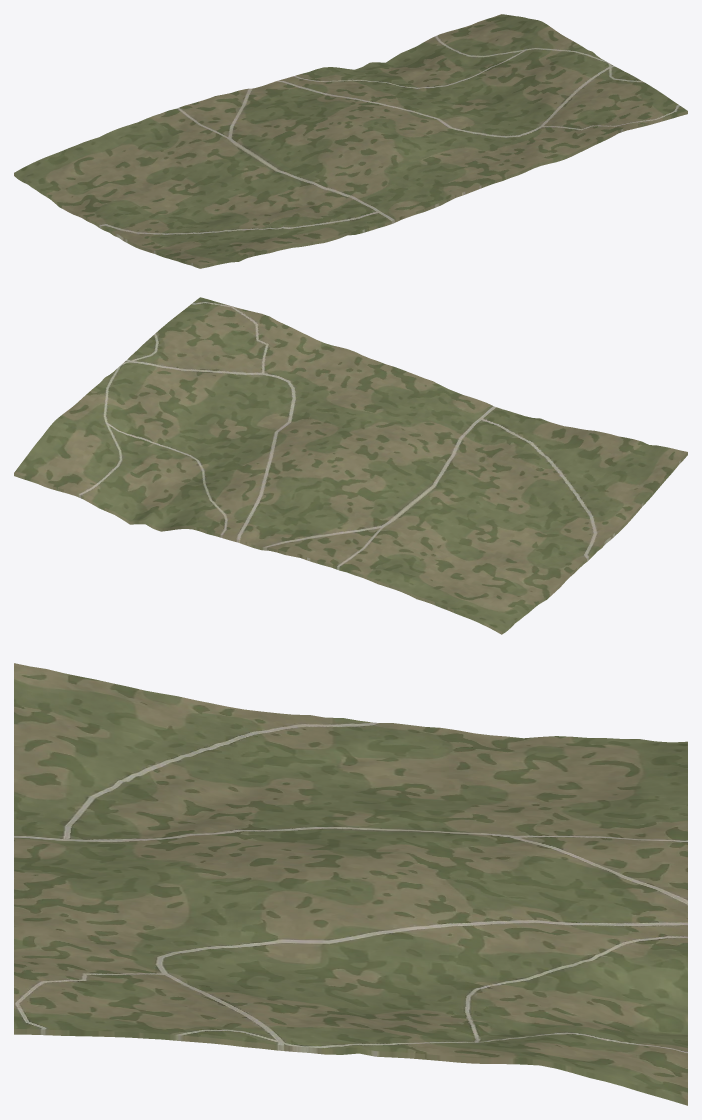
3 views of the same model, one above another, from view 1: azimuth 30°, elevation 25°; view 2: azimuth 150°, elevation 25°; view 3: azimuth 270°, elevation 25° (orthographic). The views are drawn at different scales.
Visible parts, largest first — view 1: terrain; view 2: terrain; view 3: terrain.
Part boxes in pixels (x1=…): terrain: x1=14, y1=14, x2=687, y2=268; terrain: x1=14, y1=297, x2=687, y2=634; terrain: x1=14, y1=663, x2=687, y2=1105.
Size of the model in its own units: 500 by 81.03 by 331.
1 material, 1 textured.
